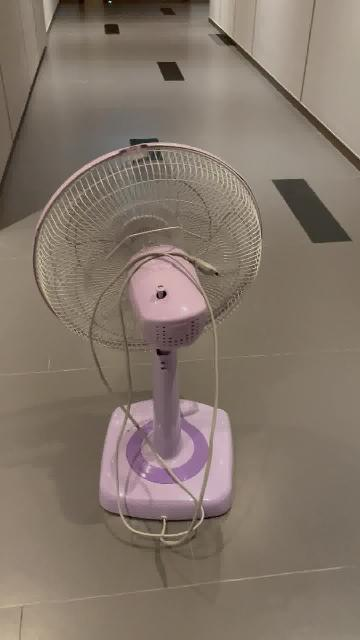Fan: (33, 141, 263, 524)
